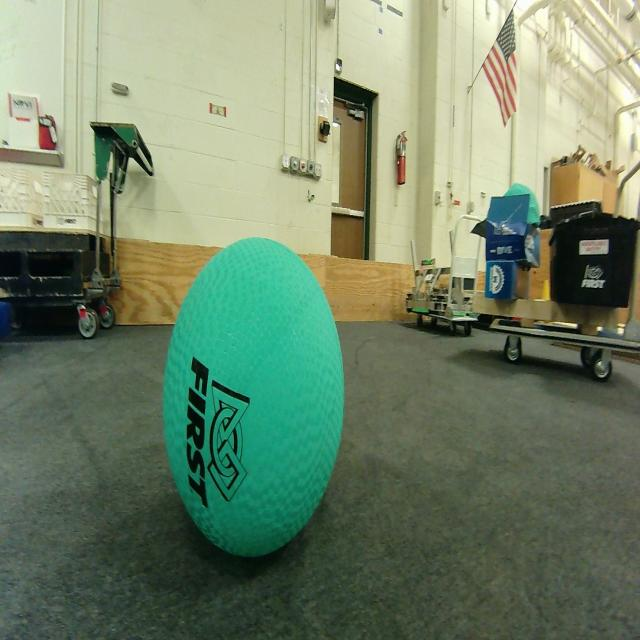algae: (163, 238, 344, 556)
